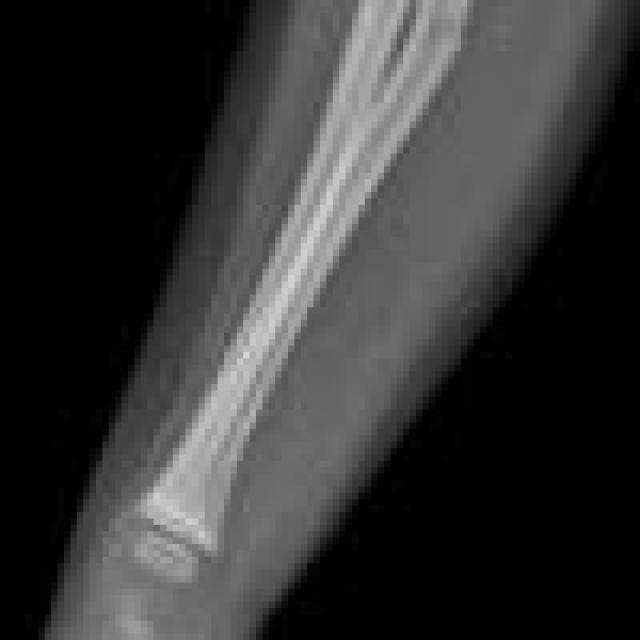Longitudinal: (320, 11, 520, 122)
